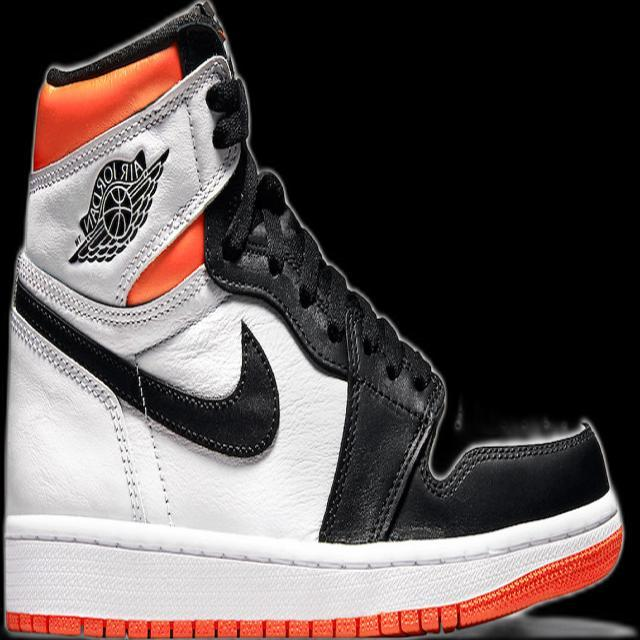J1_InsoleChar: (2, 1, 626, 638)
J1_ShoeLogo: (67, 145, 170, 265)
J1_StitchPattern: (205, 165, 448, 542), (3, 507, 625, 636), (8, 261, 280, 524), (8, 301, 148, 523), (26, 53, 236, 194), (12, 247, 213, 330), (41, 0, 229, 88), (4, 604, 461, 637), (420, 421, 595, 501), (367, 408, 438, 543), (129, 359, 176, 527)
